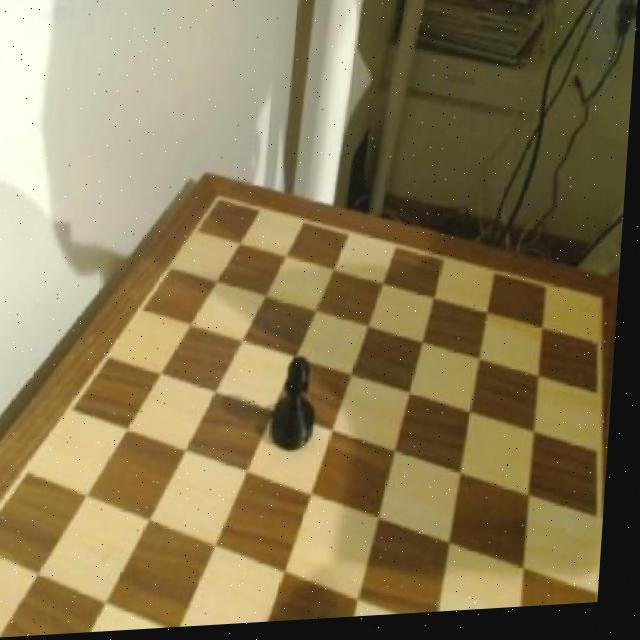black-knight: (268, 353, 328, 462)
